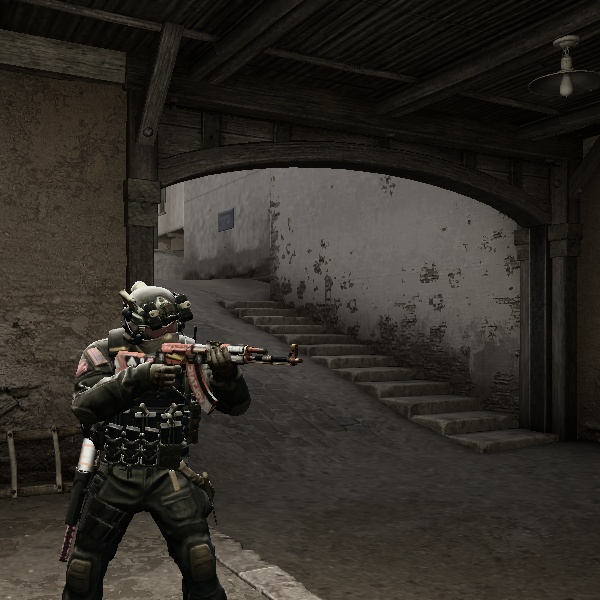ct_body: (45, 272, 249, 600)
ct_head: (115, 280, 195, 357)
